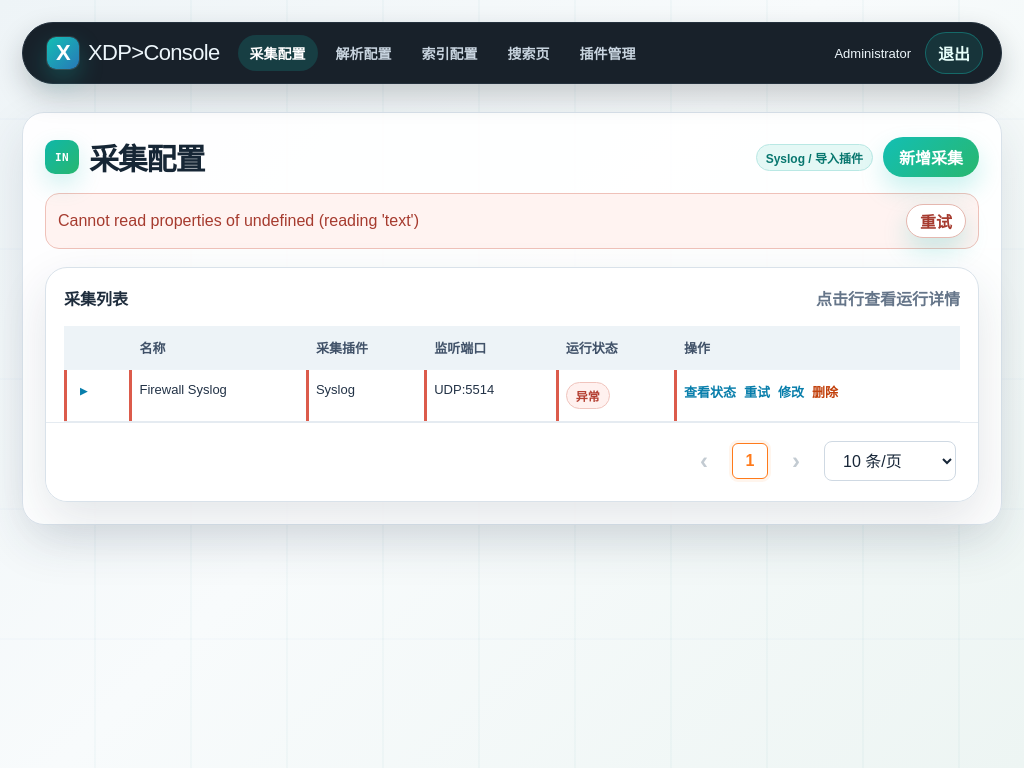
it: XDP parse config API integration › blocks incomplete regex rules before saving parse config
The width and height of the screenshot is (1024, 768).
Click the button with test id "nav-parse". click: (364, 53)
box: 324,35 -> 404,71
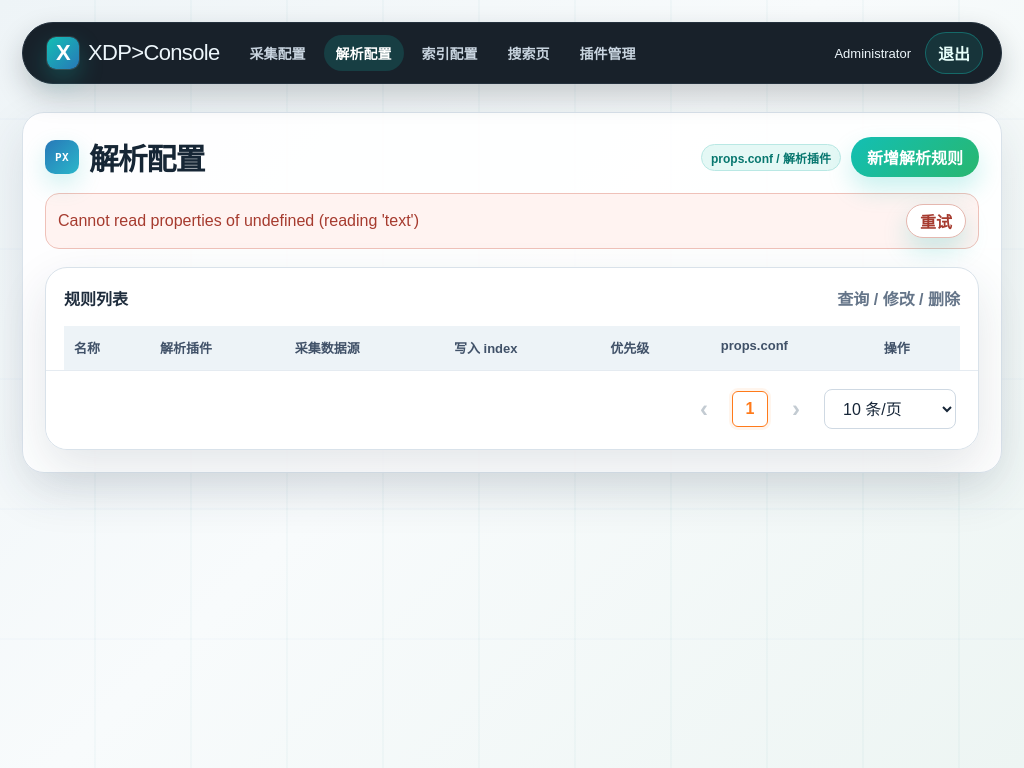
Click the button with test id "show-rule-form". click: (915, 157)
box: 851,137 -> 979,177
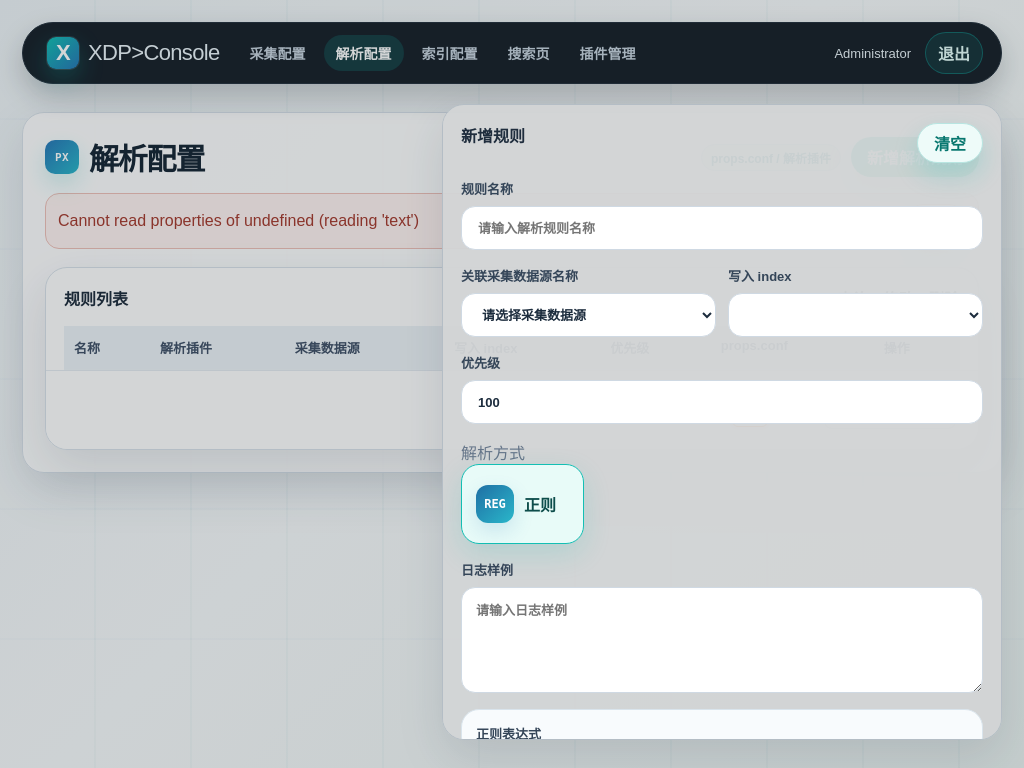
Type "Bad Rule" into the field with test id "rule-name". click: (722, 228)
box: 461,206 -> 983,250
Select "audit" in the dropdown with test id "rule-output-index". click: (856, 315)
box: 728,293 -> 983,337
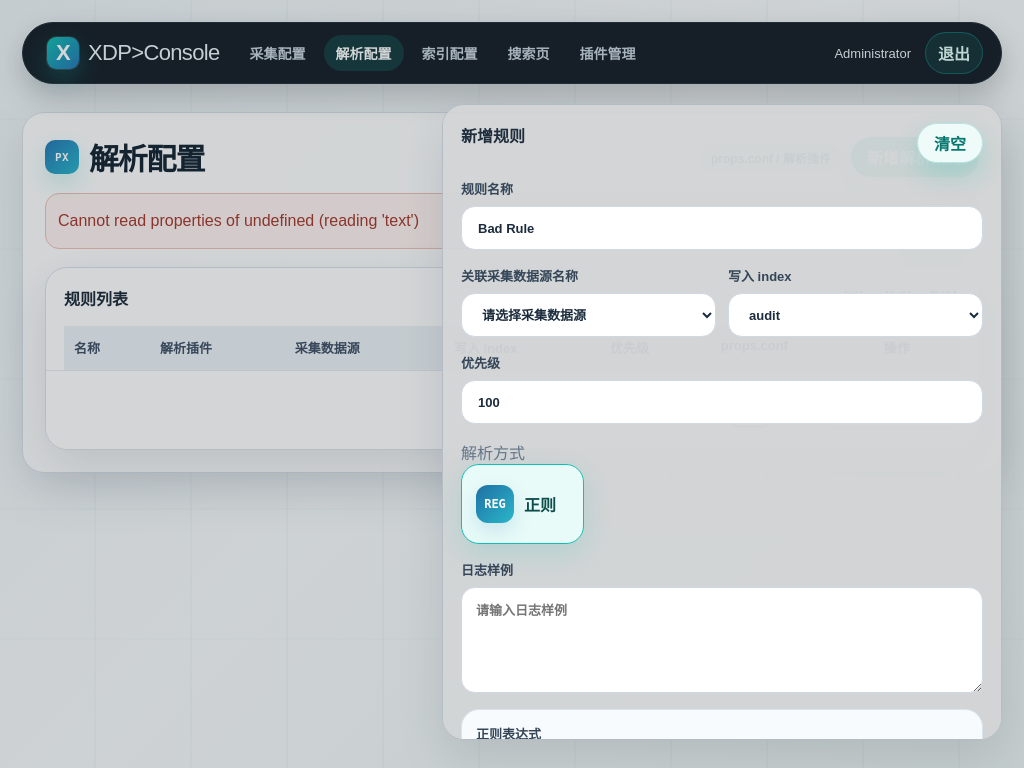
Type "src=1.1.1.1" into the text box with test id "sample-log". click: (722, 640)
box: 461,587 -> 983,693
(page scrolled)
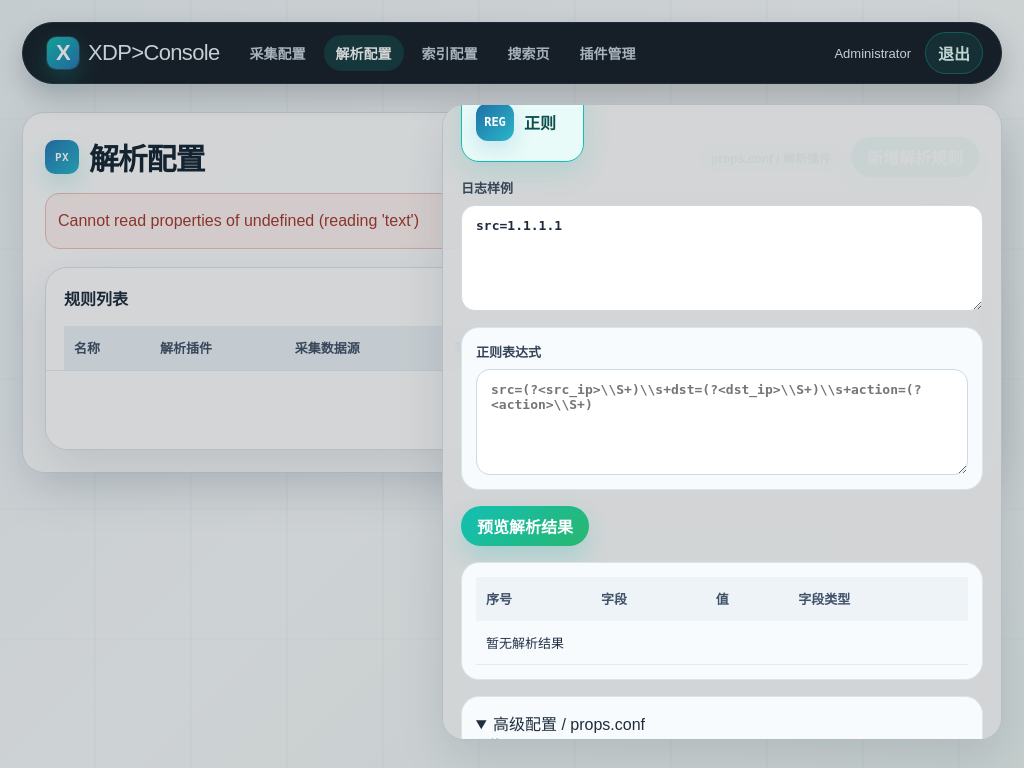
Replace the text in the text box with test id "regex-pattern" with "src=(?<src_ip>\\S+)". click: (722, 422)
box: 476,369 -> 968,475
(page scrolled)
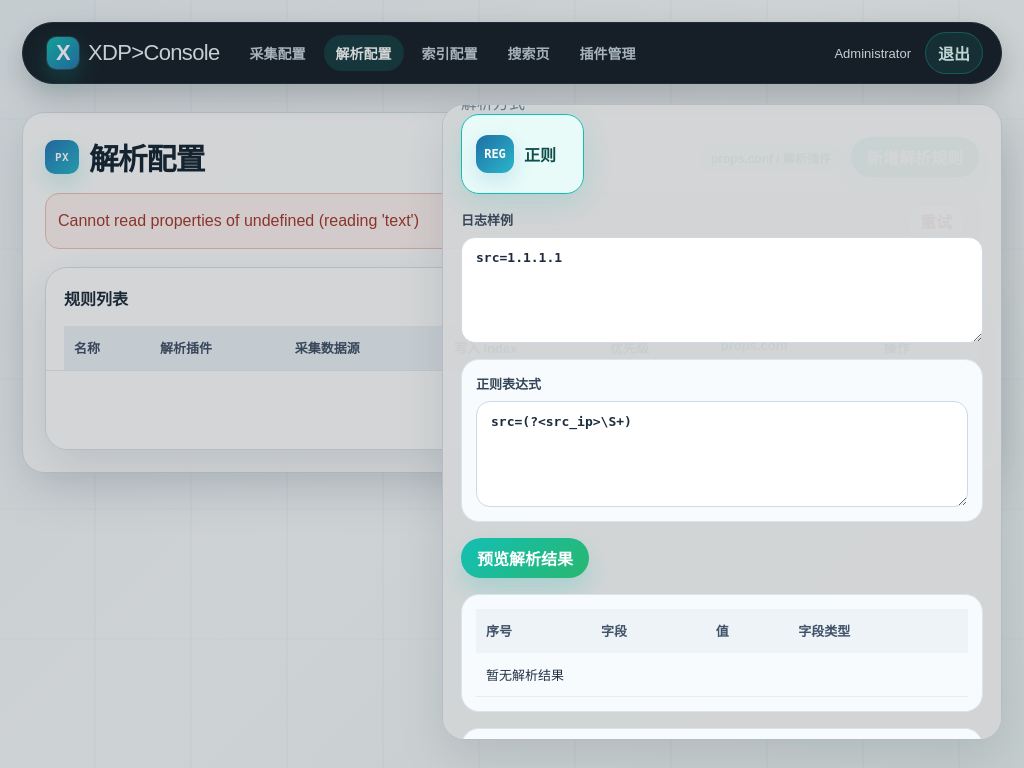
Submit the form
(page scrolled)
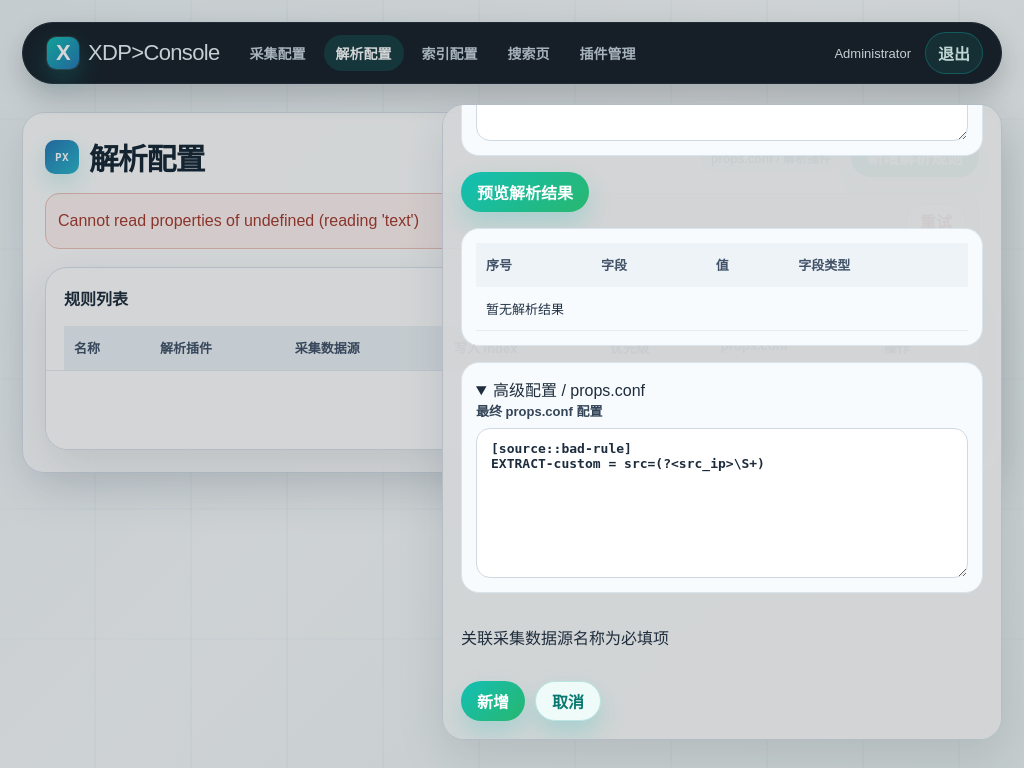
Expected: the text with test id "parse-form-error" reads "关联采集数据源名称为必填项", 461,630 -> 669,647
